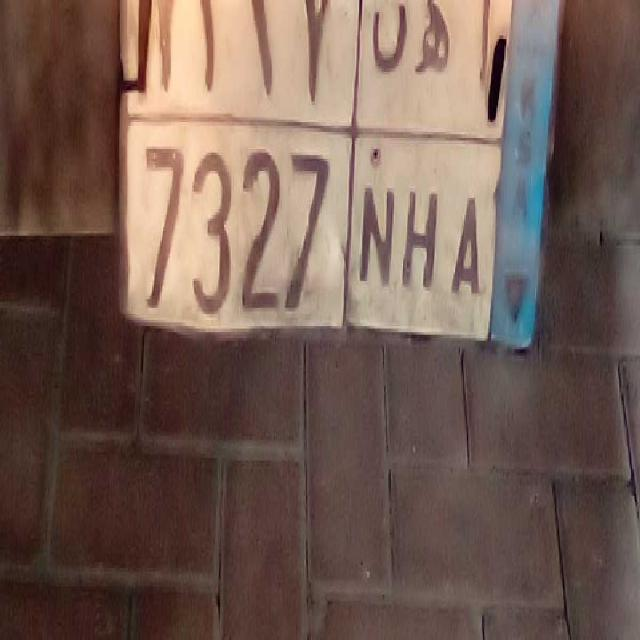license_plate: (125, 112, 492, 354)
